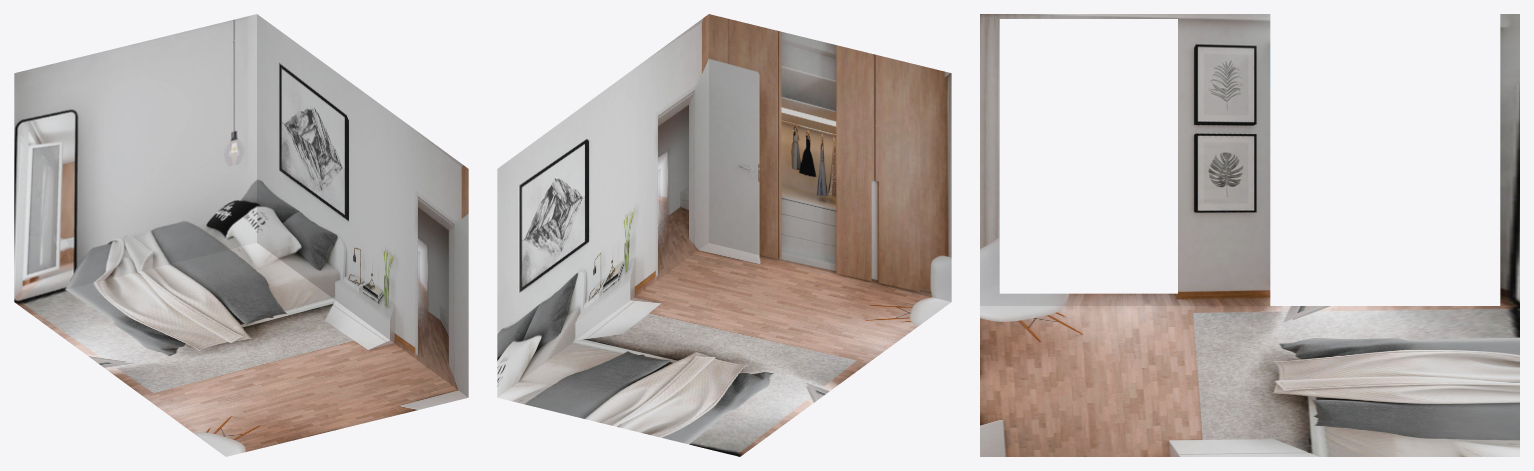
The model's file is room.glb.
The picture shows the model from 3 angles, left to right: view 1: azimuth 30°, elevation 25°; view 2: azimuth 150°, elevation 25°; view 3: azimuth 270°, elevation 25°; orthographic projection. The views are drawn at different scales.
Parts seen in each view (by area): view 1: room; view 2: room; view 3: room.
Boxes of the visible parts, x1,y1,x2,y2 form: room: [14, 14, 468, 456]; room: [497, 14, 951, 456]; room: [980, 14, 1519, 456].
Size of the model in its own units: 3.27 by 2.95 by 4.94.
6 materials, 6 textured.
